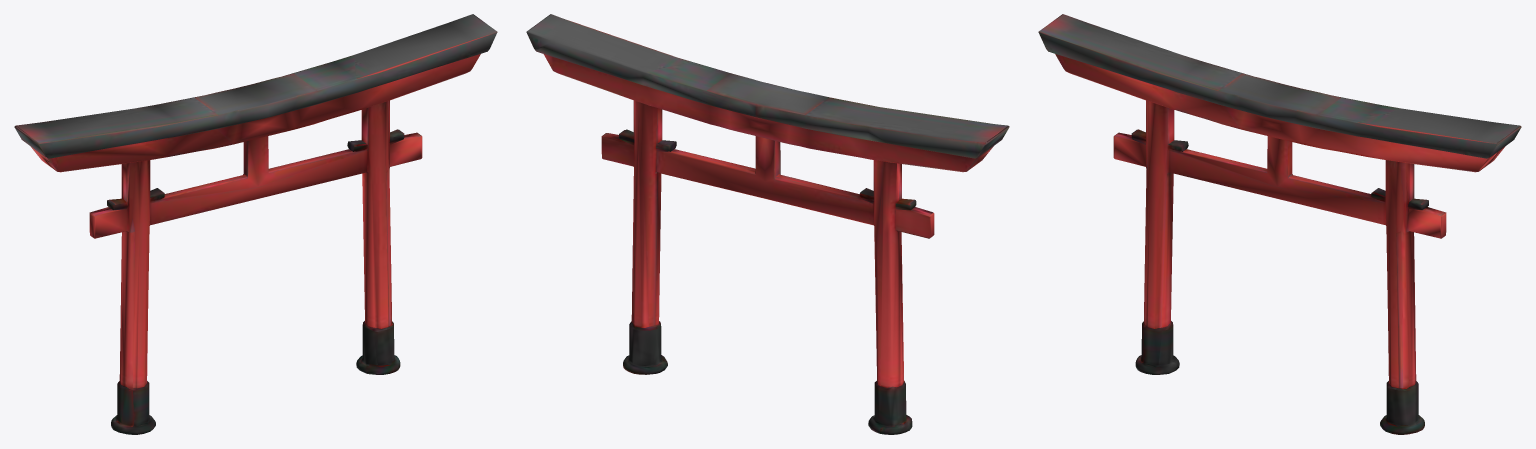
File: tori-gate.glb
3 views of the same model, side by side, from view 1: azimuth 30°, elevation 25°; view 2: azimuth 150°, elevation 25°; view 3: azimuth 330°, elevation 25° (orthographic).
Parts seen in each view (by area): view 1: tori gate; view 2: tori gate; view 3: tori gate.
Part boxes in pixels (box(x1,y1,x2,y2)): tori gate: box(14, 14, 497, 434); tori gate: box(526, 14, 1009, 434); tori gate: box(1038, 14, 1521, 434).
Size of the model in its own units: 7.59 by 5 by 0.7013.
Materials: 1 (1 with a texture image).
